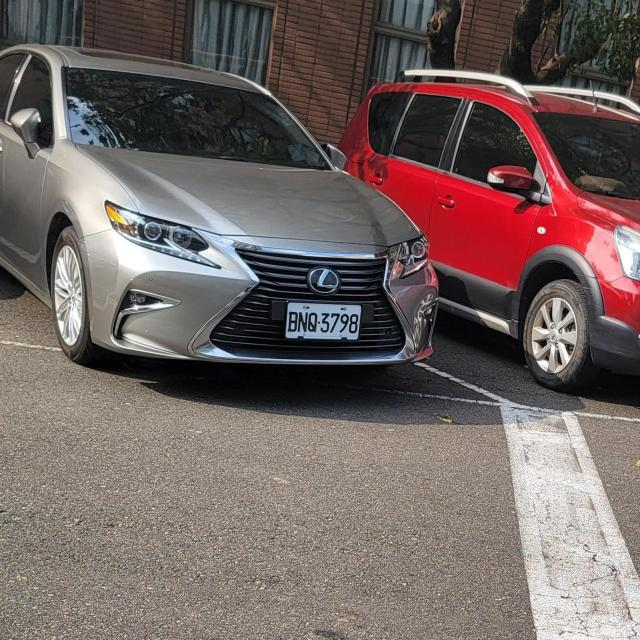W: (279, 300, 362, 344)
